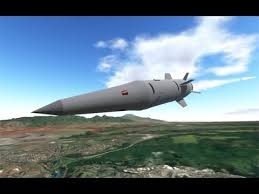ten_lua: (33, 71, 194, 125)
